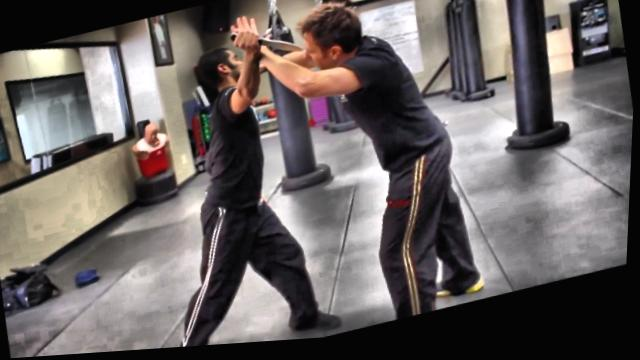knife: (225, 15, 308, 75)
